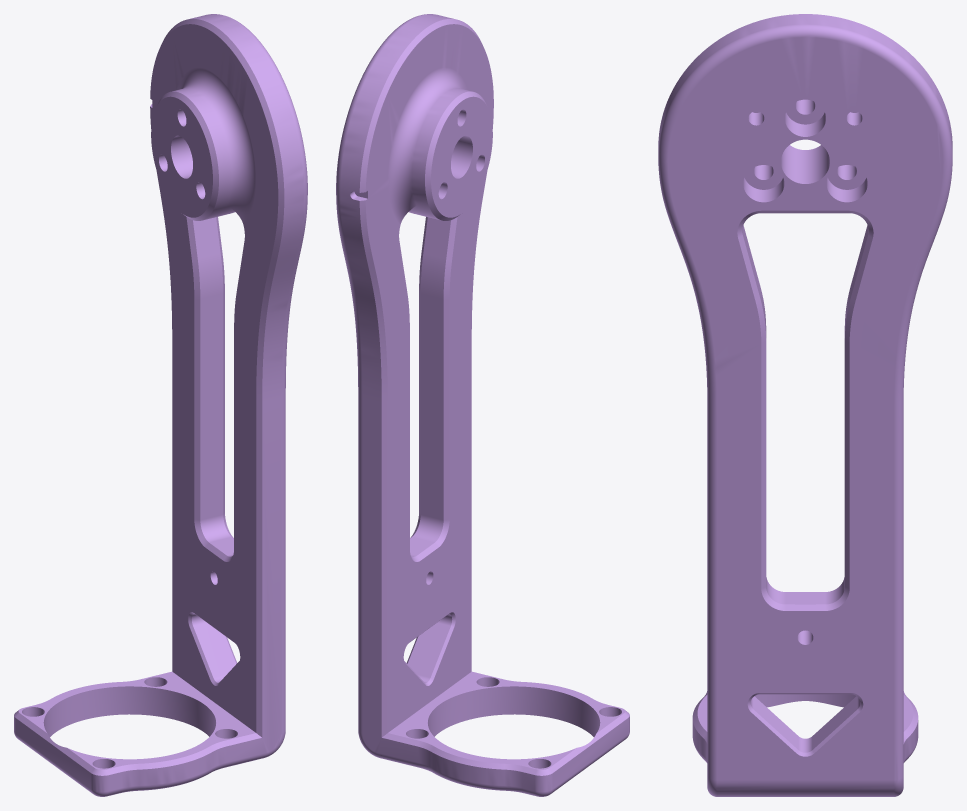
File: Main_CaseJoint_6.001.dae
3 views of the same model, side by side, from view 1: azimuth 30°, elevation 25°; view 2: azimuth 150°, elevation 25°; view 3: azimuth 270°, elevation 25° (orthographic). The views are drawn at different scales.
Parts seen in each view (by area): view 1: Main_CaseJoint_6.000; view 2: Main_CaseJoint_6.000; view 3: Main_CaseJoint_6.000.
Boxes of the visible parts, bbox=[...] form: Main_CaseJoint_6.000: bbox=[14, 14, 307, 796]; Main_CaseJoint_6.000: bbox=[336, 14, 629, 796]; Main_CaseJoint_6.000: bbox=[658, 14, 952, 796].
Bounding box in the file's own units: 0.025 × 0.03 × 0.0875.
